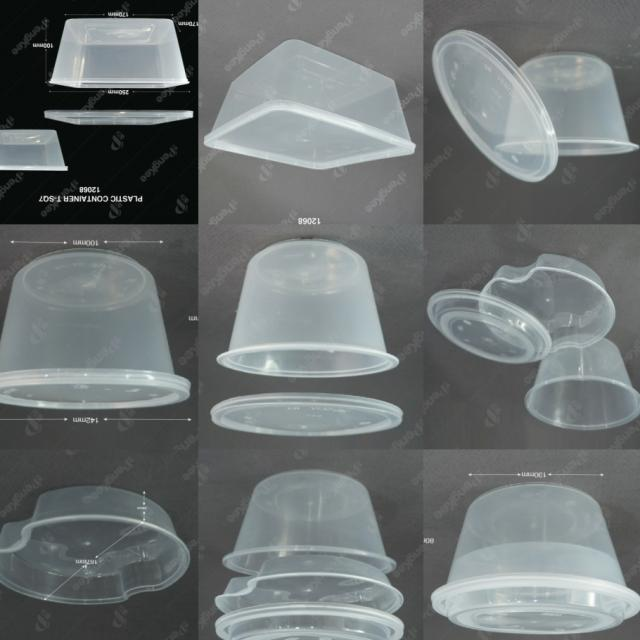plastik: (431, 484, 640, 635), (0, 249, 191, 409), (204, 40, 415, 169), (217, 239, 399, 378), (0, 486, 190, 605), (432, 30, 557, 181), (223, 470, 395, 574), (497, 53, 639, 156), (478, 253, 617, 353), (524, 334, 640, 432), (216, 554, 403, 614), (425, 287, 553, 365), (50, 18, 188, 88), (211, 392, 403, 437), (216, 603, 403, 640), (0, 130, 68, 171), (44, 109, 193, 125)
